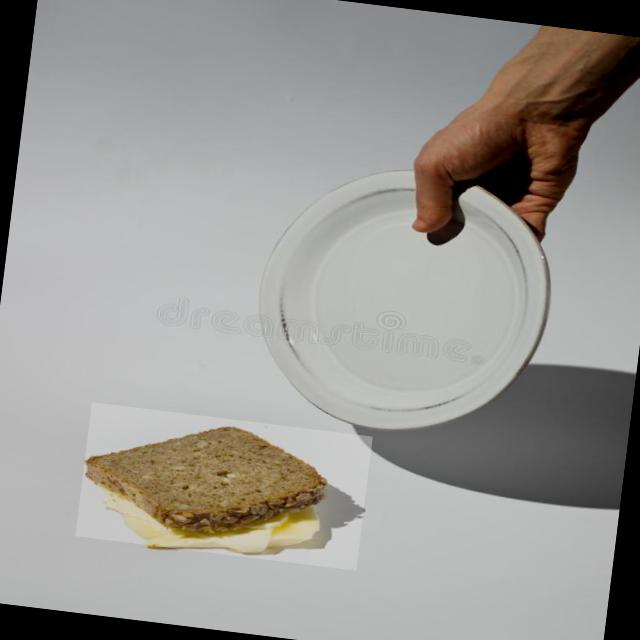Food waste: (75, 402, 372, 570)
